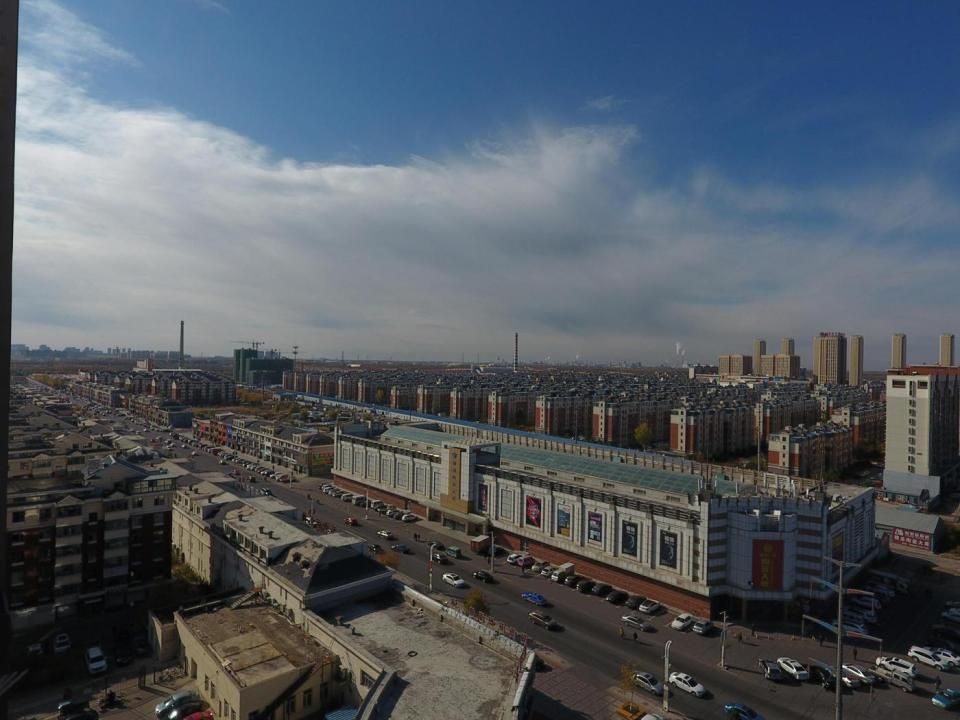bus: (351, 494, 368, 505)
car: (155, 690, 200, 718), (907, 645, 949, 672), (669, 672, 706, 697), (511, 645, 544, 672), (630, 672, 665, 696), (160, 700, 202, 720), (776, 657, 809, 682), (840, 662, 875, 685), (724, 701, 766, 720), (827, 666, 859, 690), (923, 646, 959, 667), (829, 619, 868, 637), (808, 666, 838, 688), (927, 637, 960, 657), (84, 647, 107, 674), (932, 687, 960, 709), (842, 606, 876, 623), (529, 610, 557, 630), (758, 658, 782, 681), (112, 624, 147, 639), (621, 614, 651, 631), (58, 708, 98, 720), (113, 641, 131, 667), (932, 625, 960, 641), (54, 634, 71, 658), (672, 613, 694, 631), (852, 597, 880, 611), (865, 585, 895, 598), (522, 592, 547, 606), (442, 573, 465, 588), (134, 636, 149, 658), (693, 619, 713, 635), (625, 595, 647, 609), (639, 600, 660, 614), (26, 644, 42, 662), (606, 590, 628, 603), (940, 611, 960, 624), (564, 574, 585, 586), (576, 580, 596, 592), (592, 583, 612, 595), (390, 544, 410, 555), (472, 571, 492, 582), (531, 560, 550, 571), (429, 553, 448, 563), (507, 554, 526, 564), (541, 566, 560, 576), (483, 546, 504, 555), (366, 544, 382, 555), (428, 540, 444, 550), (377, 531, 394, 540), (341, 493, 356, 502), (402, 514, 418, 522), (394, 512, 410, 520), (304, 517, 317, 526), (343, 517, 357, 525), (386, 510, 402, 517), (333, 490, 347, 498), (323, 486, 337, 494), (328, 489, 343, 496), (317, 483, 332, 490), (261, 488, 274, 496), (374, 505, 388, 512), (322, 484, 336, 491), (875, 474, 889, 480), (325, 529, 335, 537), (270, 472, 283, 478), (361, 500, 374, 506), (866, 478, 880, 483), (868, 476, 882, 481), (246, 476, 255, 483), (230, 469, 240, 475), (879, 472, 893, 476), (188, 440, 199, 445), (226, 455, 237, 460), (236, 458, 247, 463), (256, 466, 267, 471), (261, 469, 272, 474), (242, 461, 252, 466), (243, 462, 253, 467), (247, 463, 257, 468), (247, 464, 257, 469), (220, 452, 228, 458), (225, 472, 233, 478), (218, 459, 226, 465), (224, 454, 233, 459), (258, 468, 269, 472), (150, 426, 160, 430), (208, 448, 216, 453), (216, 452, 226, 456), (232, 458, 242, 462), (251, 466, 261, 470), (266, 471, 276, 475), (199, 444, 208, 448), (202, 446, 211, 450), (876, 462, 882, 468), (181, 444, 188, 449), (165, 446, 172, 451), (136, 421, 144, 425), (146, 424, 154, 428), (149, 425, 157, 429), (154, 427, 162, 431), (169, 432, 177, 436), (176, 435, 184, 439), (192, 441, 200, 445), (194, 442, 202, 446), (864, 470, 869, 476), (178, 436, 185, 440), (180, 437, 187, 441), (188, 440, 195, 444), (191, 452, 198, 456), (859, 472, 866, 476), (130, 419, 139, 422), (162, 429, 171, 432), (136, 431, 141, 436), (131, 418, 137, 422), (144, 423, 150, 427), (160, 428, 166, 432), (156, 436, 162, 440), (184, 438, 190, 442), (196, 443, 204, 446), (170, 442, 176, 446), (854, 474, 860, 478), (852, 482, 858, 486), (578, 436, 586, 439), (156, 428, 163, 431), (150, 438, 155, 442), (128, 417, 134, 420), (135, 420, 141, 423), (136, 421, 142, 424), (172, 434, 178, 437), (164, 440, 170, 443), (130, 428, 134, 432), (138, 422, 146, 424), (142, 429, 147, 432), (108, 419, 113, 422), (125, 416, 130, 419), (118, 413, 125, 415), (116, 413, 123, 415), (173, 436, 180, 438), (96, 410, 99, 413), (358, 409, 361, 412), (49, 390, 53, 392), (382, 415, 386, 417), (83, 405, 86, 407), (93, 412, 96, 414), (103, 414, 106, 416), (54, 392, 57, 394), (52, 390, 54, 393), (89, 408, 91, 410), (92, 407, 94, 409), (54, 390, 56, 392), (101, 412, 104, 413)
truck: (868, 664, 916, 692), (866, 569, 909, 595), (876, 657, 916, 678), (551, 562, 575, 582), (470, 534, 493, 554), (378, 504, 396, 514), (280, 475, 296, 482), (211, 448, 224, 454), (376, 417, 384, 420)
van: (864, 588, 888, 603), (840, 612, 864, 626), (518, 554, 536, 566), (446, 546, 461, 558), (370, 500, 384, 508), (276, 474, 290, 480), (204, 446, 214, 451), (95, 408, 98, 411), (86, 406, 88, 409)
